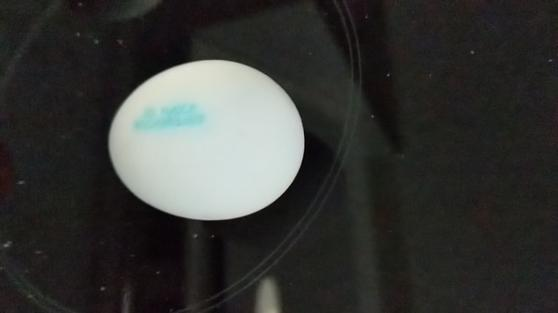egg: (105, 60, 302, 219)
